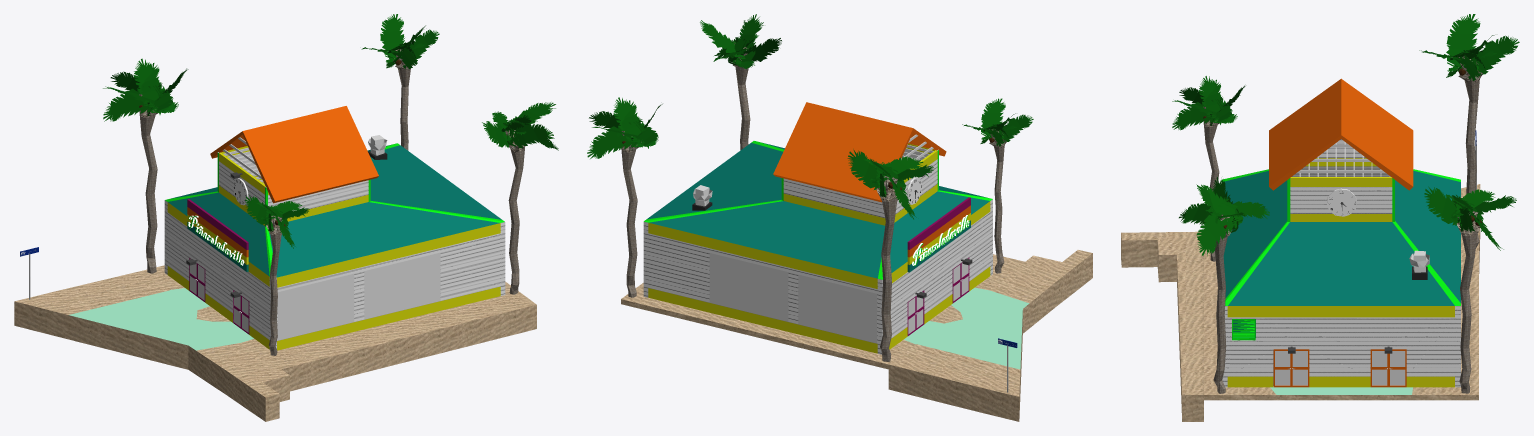
The model's file is Pinacoladaville.glb.
The picture shows the model from 3 angles, left to right: view 1: azimuth 30°, elevation 25°; view 2: azimuth 150°, elevation 25°; view 3: azimuth 270°, elevation 25°; orthographic projection. The views are drawn at different scales.
Visible parts, largest first — view 1: Ext Walls, Undeveloped Land.001, Palm Trees, High Roof, Floor & Site, Sign, Doors, Bars, Sign Text; view 2: Ext Walls, Undeveloped Land.001, Palm Trees, High Roof, Floor & Site, Sign, Doors, Sign Text; view 3: Ext Walls, Palm Trees, High Roof, Undeveloped Land.001, Floor & Site, Doors, Bars, Clock, Louver, PRVU.
Part boxes in pixels (<box>): Ext Walls: <box>164,143,505,350</box>; Undeveloped Land.001: <box>14,270,536,421</box>; Palm Trees: <box>103,14,558,355</box>; High Roof: <box>210,106,378,203</box>; Floor & Site: <box>143,265,526,360</box>; Sign: <box>187,199,248,271</box>; Doors: <box>189,258,249,334</box>; Bars: <box>222,137,264,183</box>; Sign Text: <box>188,215,244,265</box>; Ext Walls: <box>643,141,992,354</box>; Undeveloped Land.001: <box>888,250,1092,421</box>; Palm Trees: <box>587,14,1033,361</box>; High Roof: <box>773,102,946,202</box>; Floor & Site: <box>621,266,1015,369</box>; Sign: <box>907,197,970,272</box>; Doors: <box>907,257,969,335</box>; Sign Text: <box>912,215,969,265</box>; Ext Walls: <box>1221,139,1460,387</box>; Palm Trees: <box>1172,14,1519,393</box>; High Roof: <box>1269,78,1413,190</box>; Undeveloped Land.001: <box>1121,184,1480,421</box>; Floor & Site: <box>1204,253,1478,400</box>; Doors: <box>1273,349,1406,387</box>; Bars: <box>1297,142,1390,176</box>; Clock: <box>1327,188,1356,216</box>; Louver: <box>1232,319,1255,340</box>; PRVU: <box>1409,250,1429,279</box>.
Size of what is drawn, in the model's own units: 27.86 by 14.3 by 20.32.
Materials: 27 (4 with a texture image).
